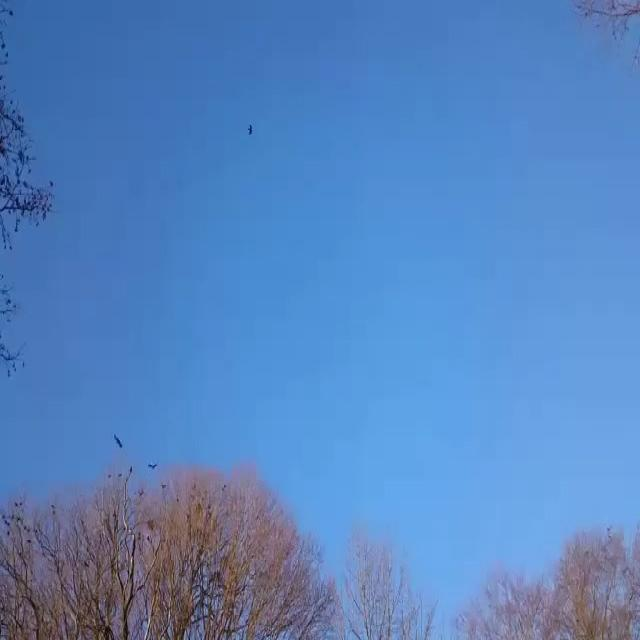bird: (109, 425, 127, 454), (143, 456, 161, 476), (244, 120, 257, 141)
